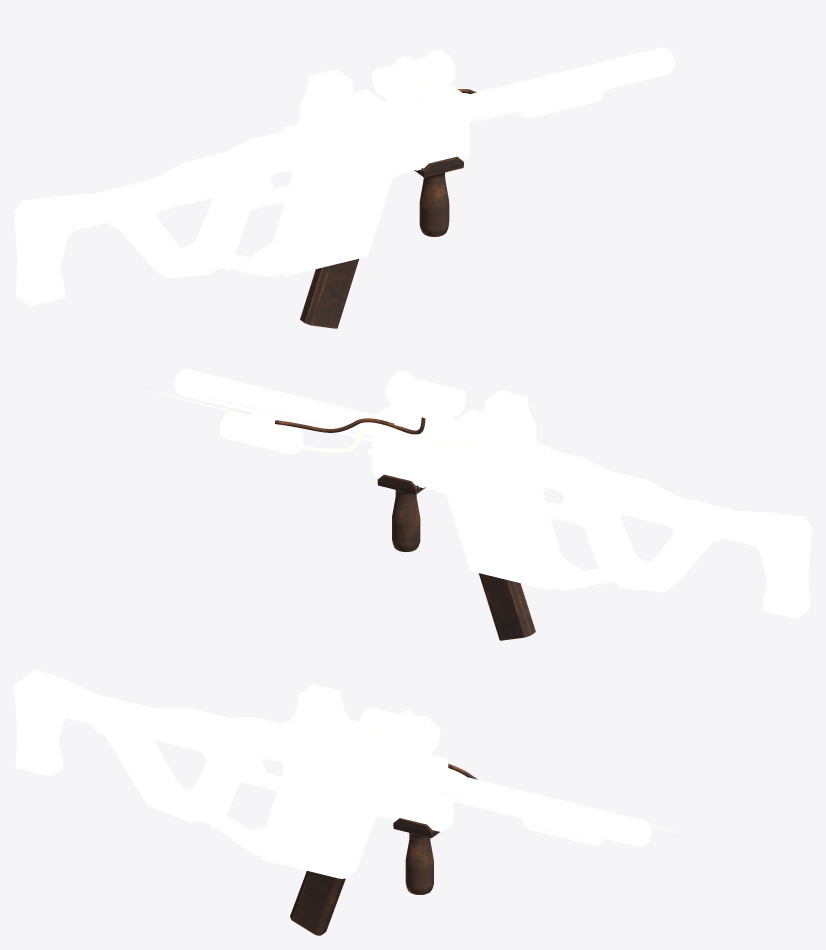
Rendered from Mid_Whip.glb.
3 renders of one model, top to bottom at view 1: azimuth 30°, elevation 25°; view 2: azimuth 150°, elevation 25°; view 3: azimuth 330°, elevation 25°, orthographic. The views are drawn at different scales.
Parts seen in each view (by area): view 1: Circle.002_Body_0, Circle.002_Scope_0, Circle.002_Clip_0; view 2: Circle.002_Body_0, Circle.002_Scope_0, Circle.002_Clip_0; view 3: Circle.002_Body_0, Circle.002_Scope_0, Circle.002_Clip_0.
Part boxes in pixels (<box>): Circle.002_Body_0: <box>14,47,674,306</box>; Circle.002_Scope_0: <box>299,48,676,135</box>; Circle.002_Clip_0: <box>300,89,476,328</box>; Circle.002_Body_0: <box>174,369,811,618</box>; Circle.002_Scope_0: <box>142,370,536,453</box>; Circle.002_Clip_0: <box>275,417,535,640</box>; Circle.002_Body_0: <box>14,669,651,878</box>; Circle.002_Scope_0: <box>289,684,681,833</box>; Circle.002_Clip_0: <box>290,763,477,935</box>.
Size of the model in its own units: 5.97 by 1.77 by 0.3568.
Materials: 3 (3 with a texture image).
